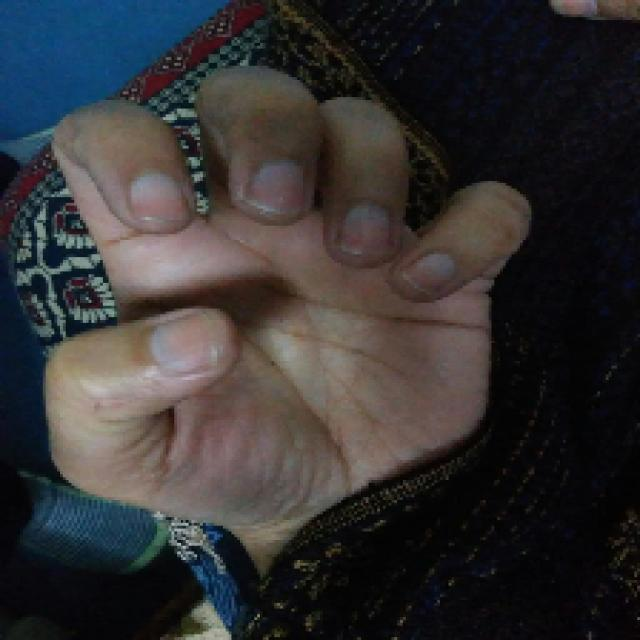Nail: (151, 312, 220, 371), (250, 161, 307, 216), (130, 172, 186, 221), (340, 202, 390, 250), (402, 254, 457, 295)
